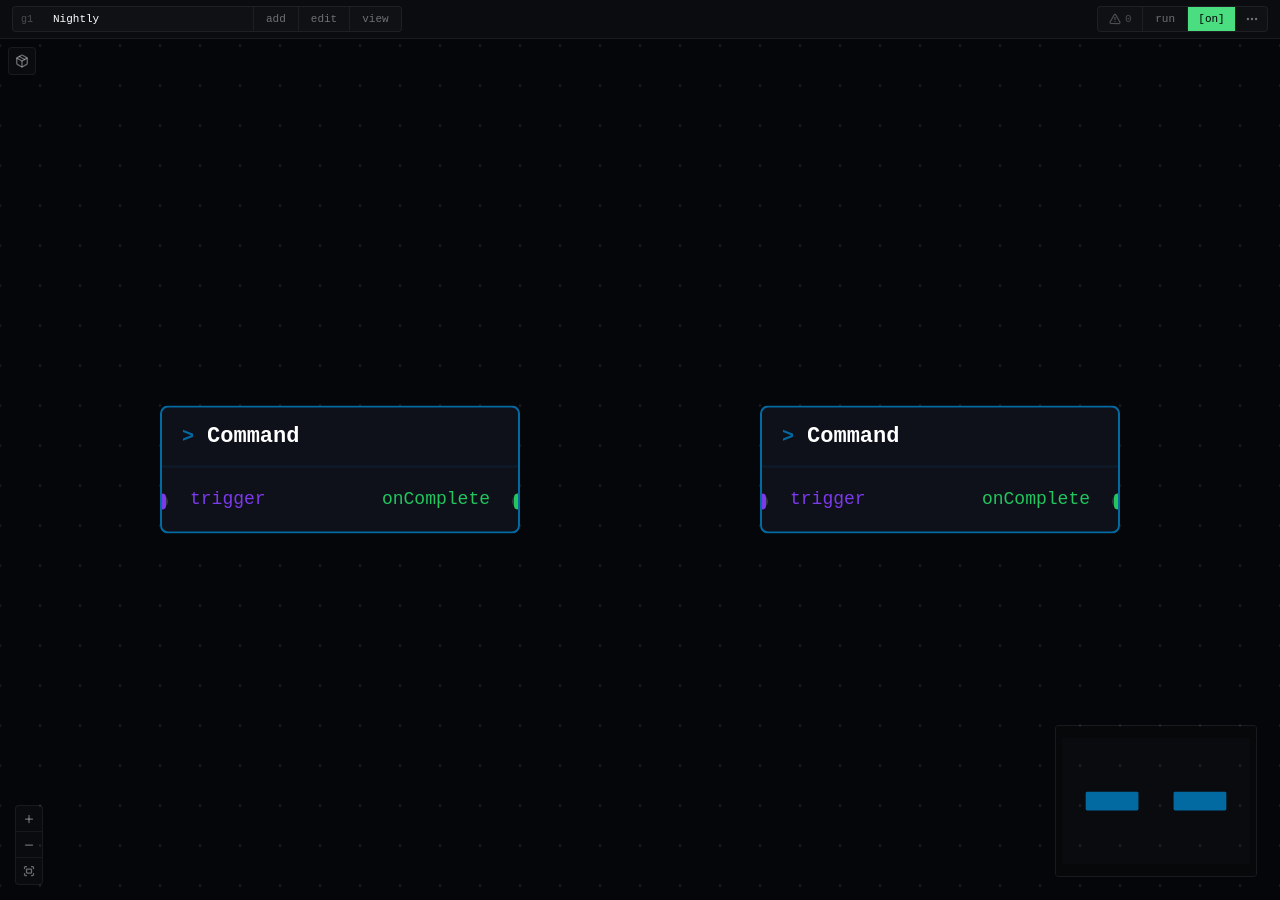
Test: the toolbar menus drive the editor › renames from the overflow menu and marks the graph unsaved
Expected: the number of elements with class "react-flow__node" is 2, [160,406,520,534]; [760,406,1120,534]
Step 1. Click the button named "Graph actions" → coordinates (1252, 19), box [1236,7,1267,31]
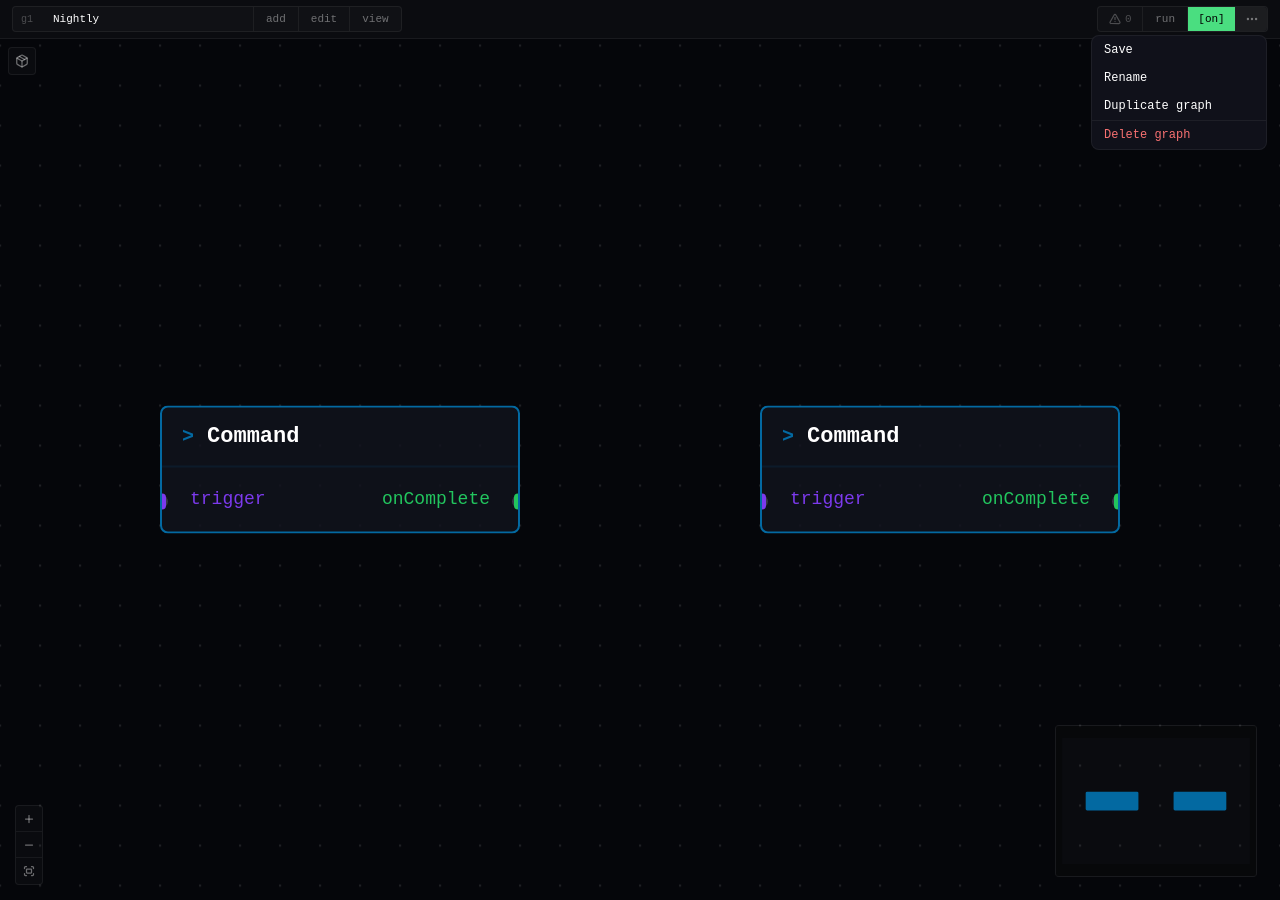
Step 2. Click the button "Rename" → coordinates (1179, 78), box [1092,64,1266,92]
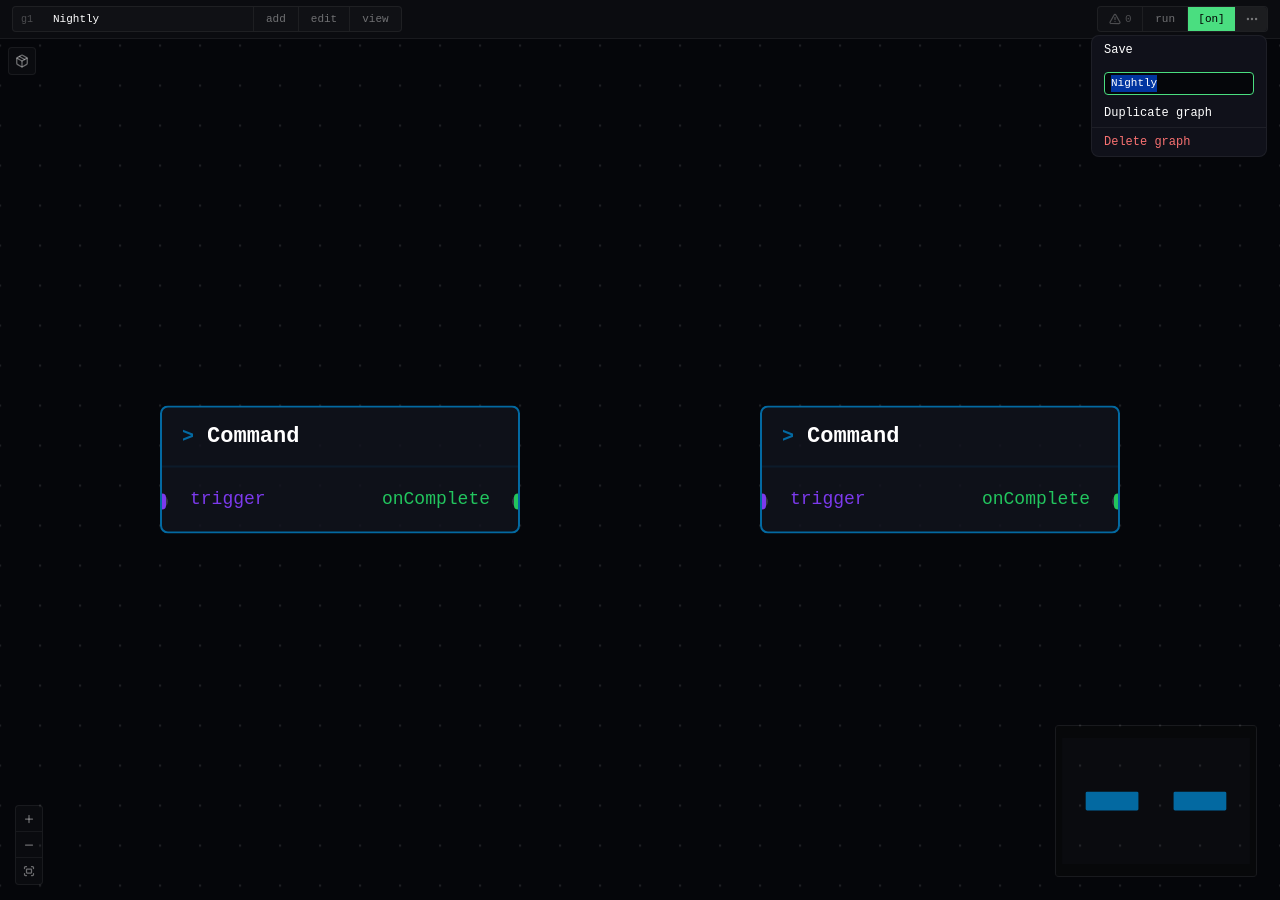
Step 3. Replace the text in the field named "Graph name" with "Hourly" → coordinates (1179, 83), box [1104,72,1254,94]
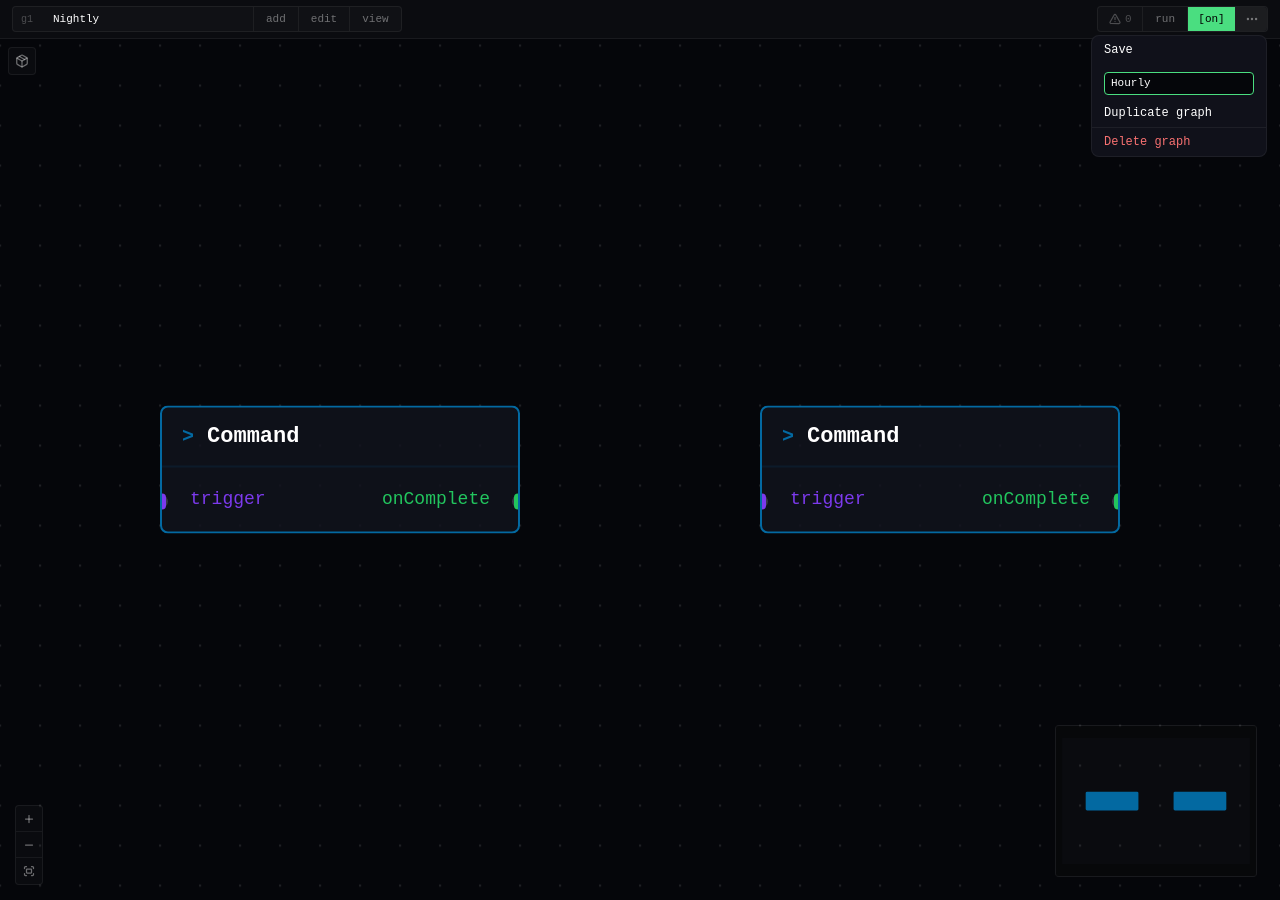
Step 4. Press Enter in the field named "Graph name", box [1104,72,1254,94]
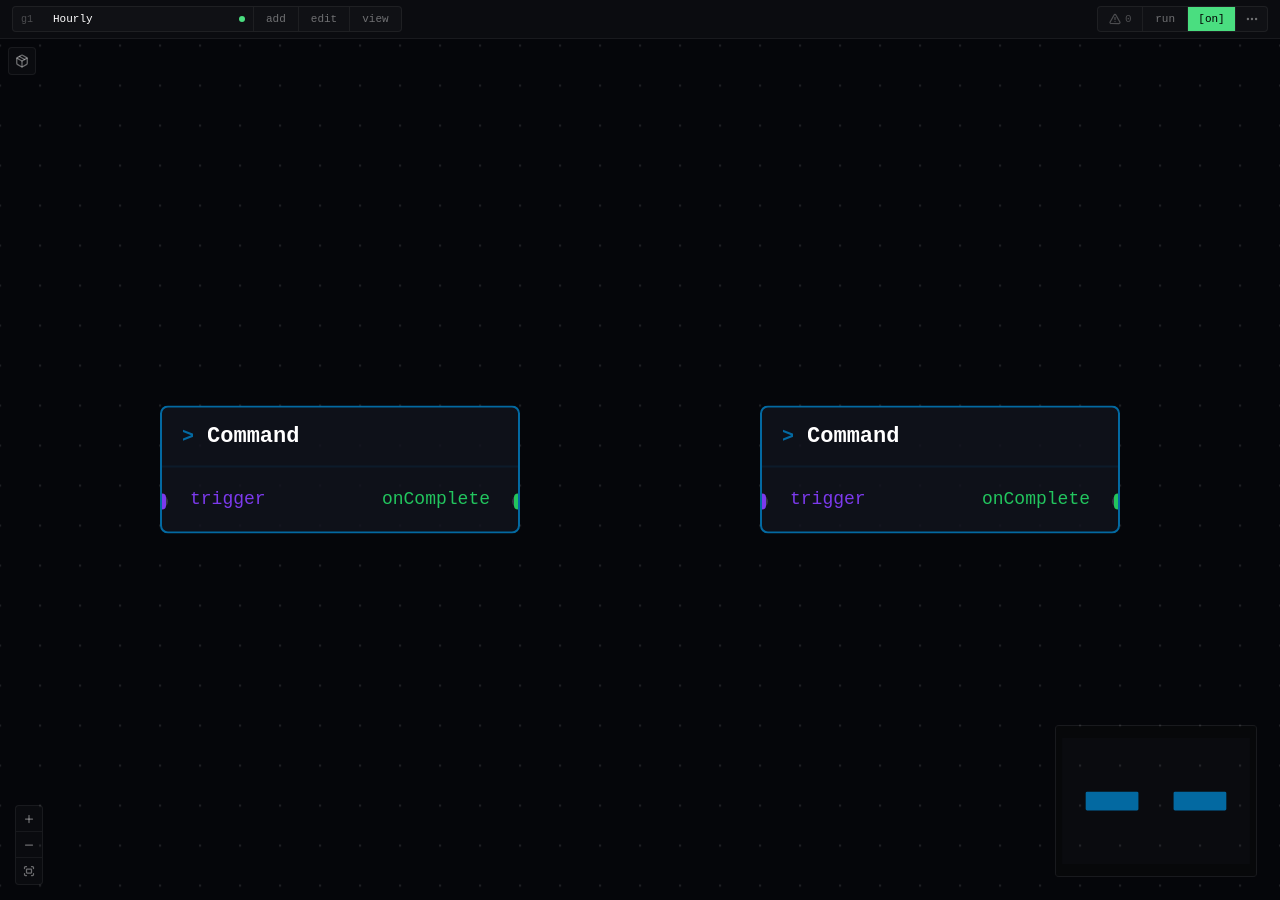
Expected: the picture named "Unsaved changes" is shown, [239,16,245,22]
Expected: the button "g1 Hourly" is shown, [13,7,253,31]
